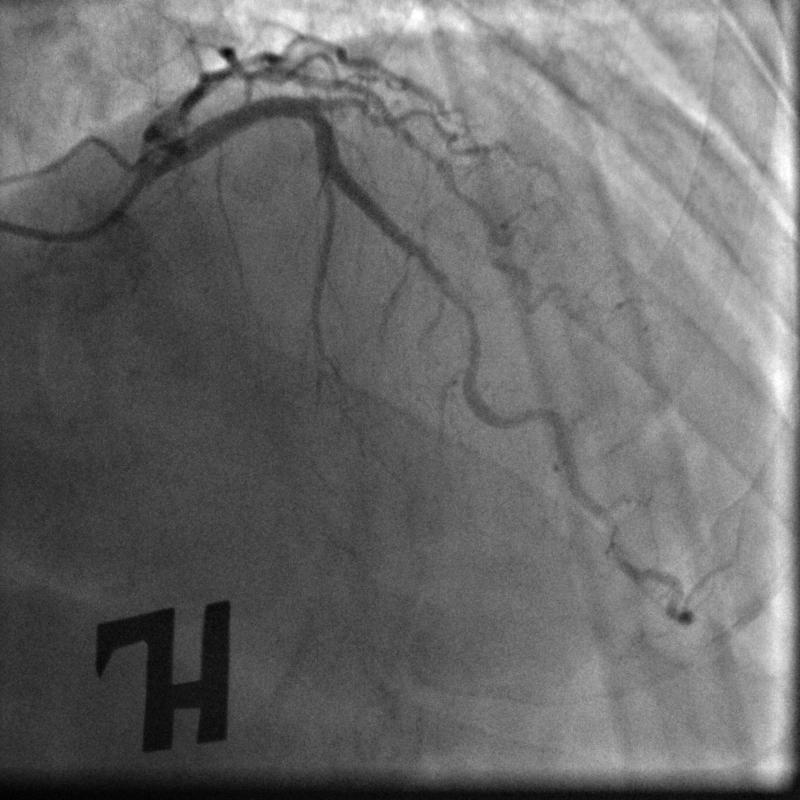Stenosis: (451, 289, 484, 372)
